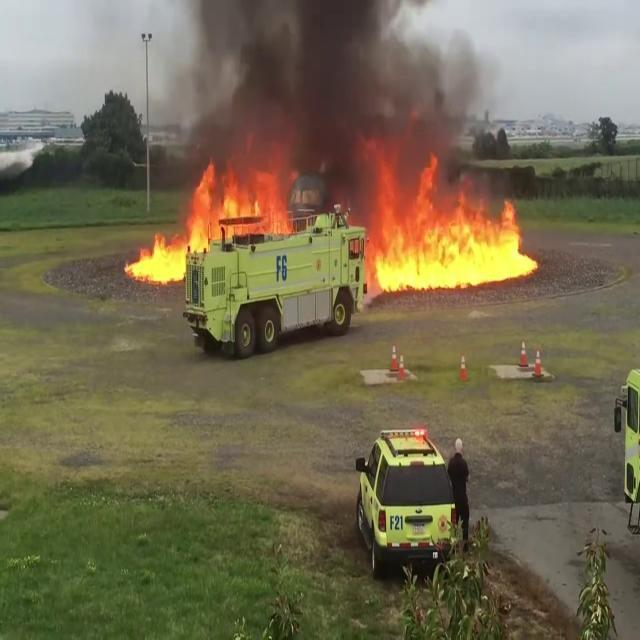Fire: (134, 156, 542, 304)
Smoke: (154, 0, 476, 198)
